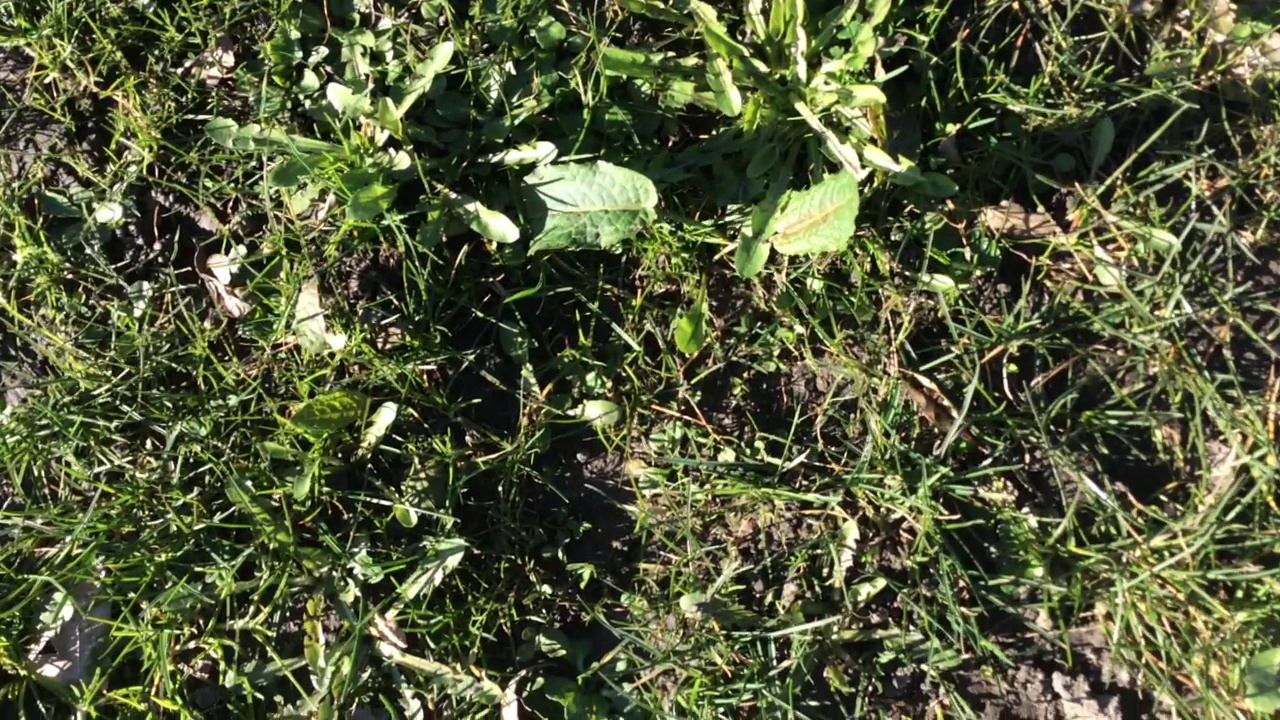rumex: (502, 163, 659, 254), (750, 173, 861, 256)
